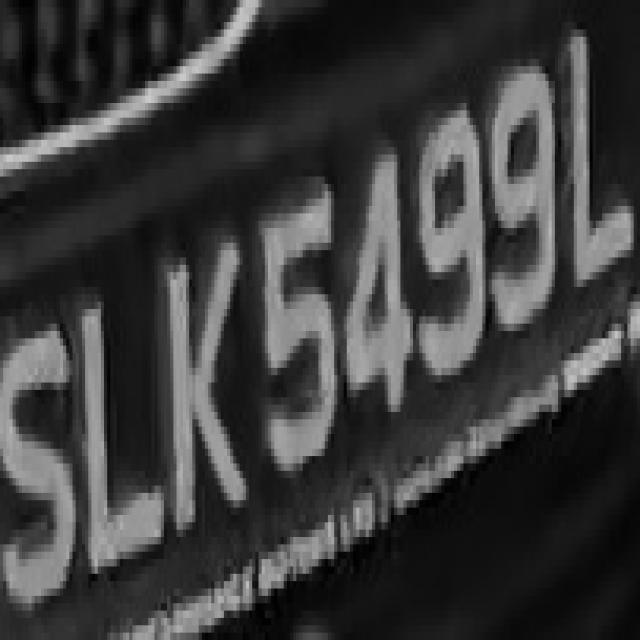4: (344, 132, 419, 434)
5: (255, 177, 347, 478)
9: (413, 96, 489, 412), (489, 66, 564, 353)
K: (154, 228, 256, 552)
L: (79, 265, 170, 581), (567, 29, 640, 294)
S: (16, 294, 72, 633)
